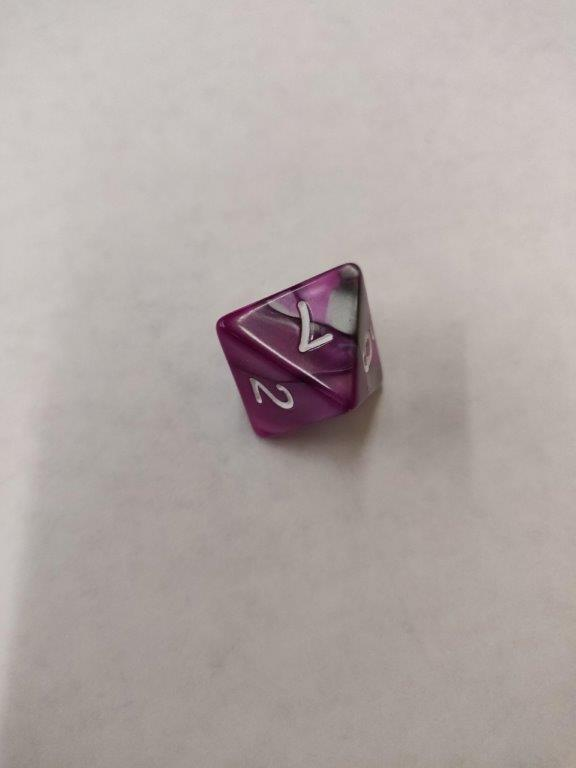d8-7: (217, 263, 387, 443)
